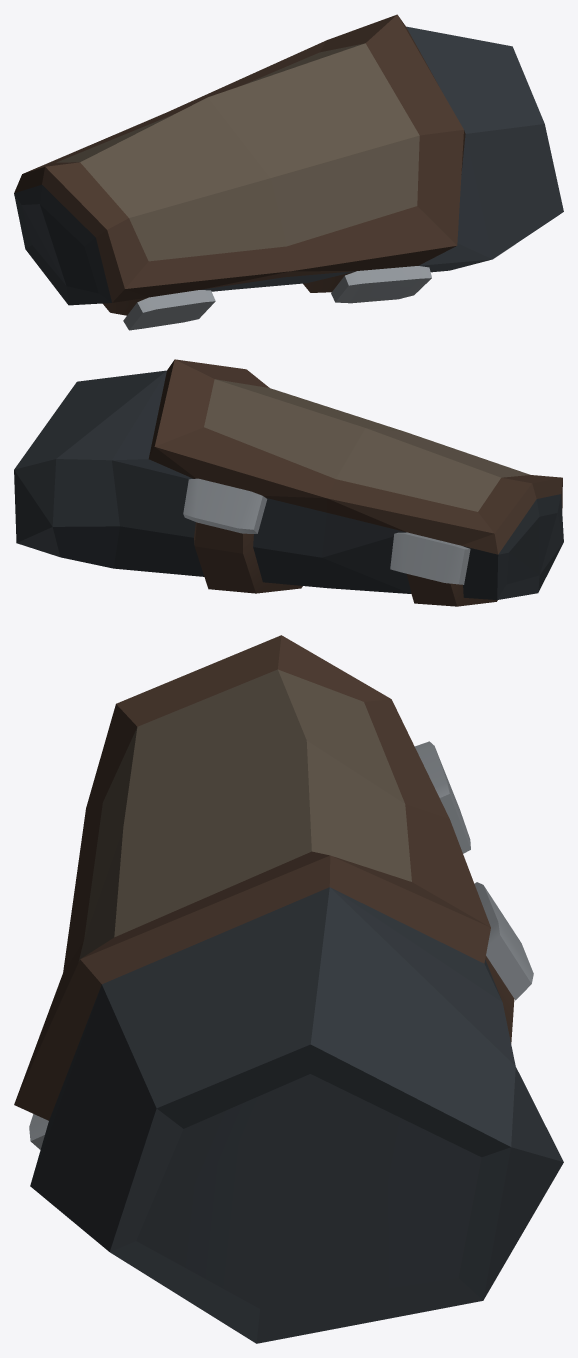
Rendered from Chr_ArmLowerRight_Male_08_Static.fbx.
3 renders of one model, top to bottom at view 1: azimuth 30°, elevation 25°; view 2: azimuth 150°, elevation 25°; view 3: azimuth 270°, elevation 25°, orthographic. The views are drawn at different scales.
Parts seen in each view (by area): view 1: Chr_ArmLowerRight_Male_08_Static; view 2: Chr_ArmLowerRight_Male_08_Static; view 3: Chr_ArmLowerRight_Male_08_Static.
Part boxes in pixels (x1,y1,x2,y2): Chr_ArmLowerRight_Male_08_Static: [14, 14, 563, 330]; Chr_ArmLowerRight_Male_08_Static: [14, 359, 563, 606]; Chr_ArmLowerRight_Male_08_Static: [14, 635, 563, 1343].
Bounding box in the file's own units: 0.2909 × 0.1374 × 0.1593.
